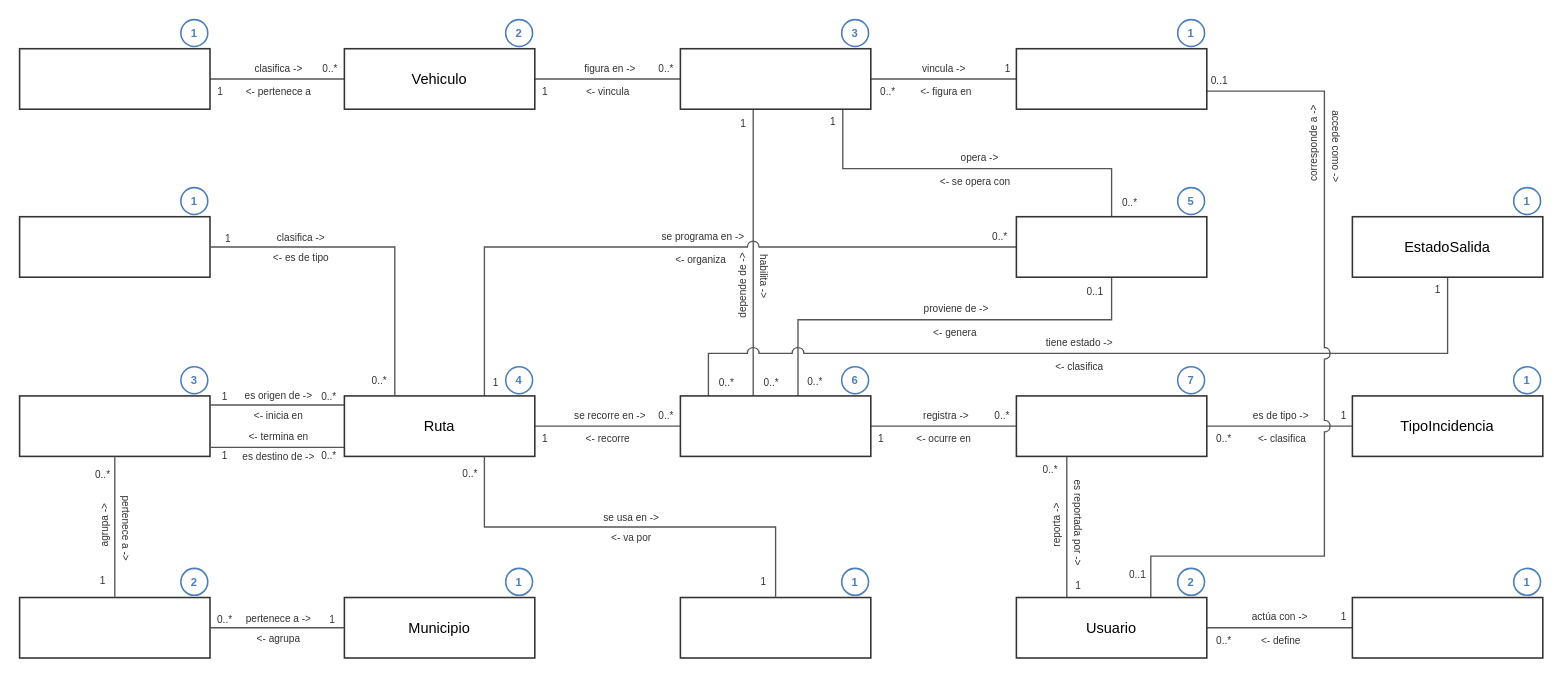
This 1564x679 diagram has some shape labels left out. Each missing label, with the box of its shape:
Asignacion: (679, 47, 871, 109)
CategoriaVehiculo: (18, 47, 210, 109)
Conductor: (1015, 47, 1207, 109)
Incidencia: (1015, 395, 1207, 457)
Lugar: (18, 395, 210, 457)
ProgramacionRuta: (1015, 215, 1207, 277)
Rol: (1351, 596, 1543, 658)
Salida: (679, 395, 871, 457)
Sector: (18, 596, 210, 658)
TipoRuta: (18, 215, 210, 277)
Via: (679, 596, 871, 658)
